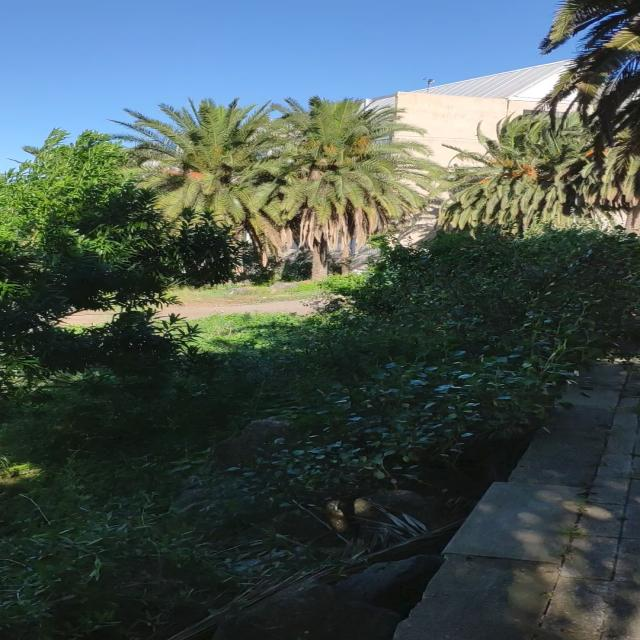Palm-Trees: (235, 97, 417, 280)
